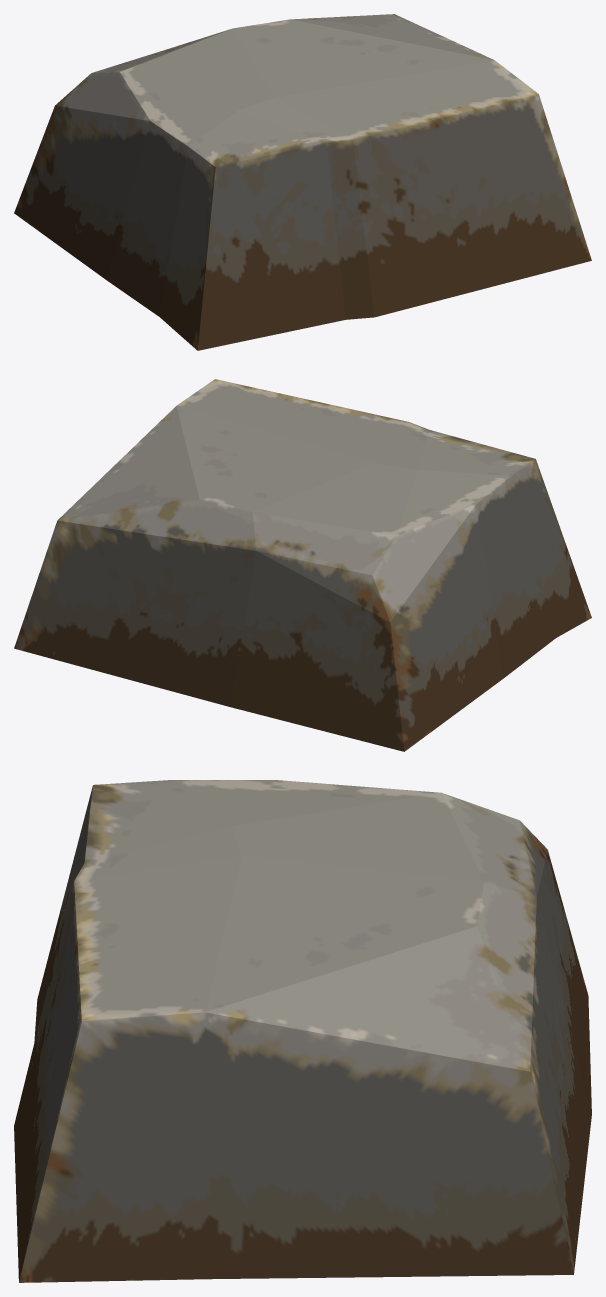
File: Pebble_Square_3__go_coast.glb
3 renders of one model, top to bottom at view 1: azimuth 30°, elevation 25°; view 2: azimuth 150°, elevation 25°; view 3: azimuth 270°, elevation 25°, orthographic. The views are drawn at different scales.
Visible parts, largest first — view 1: Pebble_Square_3; view 2: Pebble_Square_3; view 3: Pebble_Square_3.
Boxes of the visible parts, x1,y1,x2,y2 form: Pebble_Square_3: [14, 14, 591, 350]; Pebble_Square_3: [14, 379, 591, 751]; Pebble_Square_3: [14, 780, 591, 1282].
Size of the model in its own units: 0.3733 by 0.1589 by 0.3187.
1 material, 1 textured.
